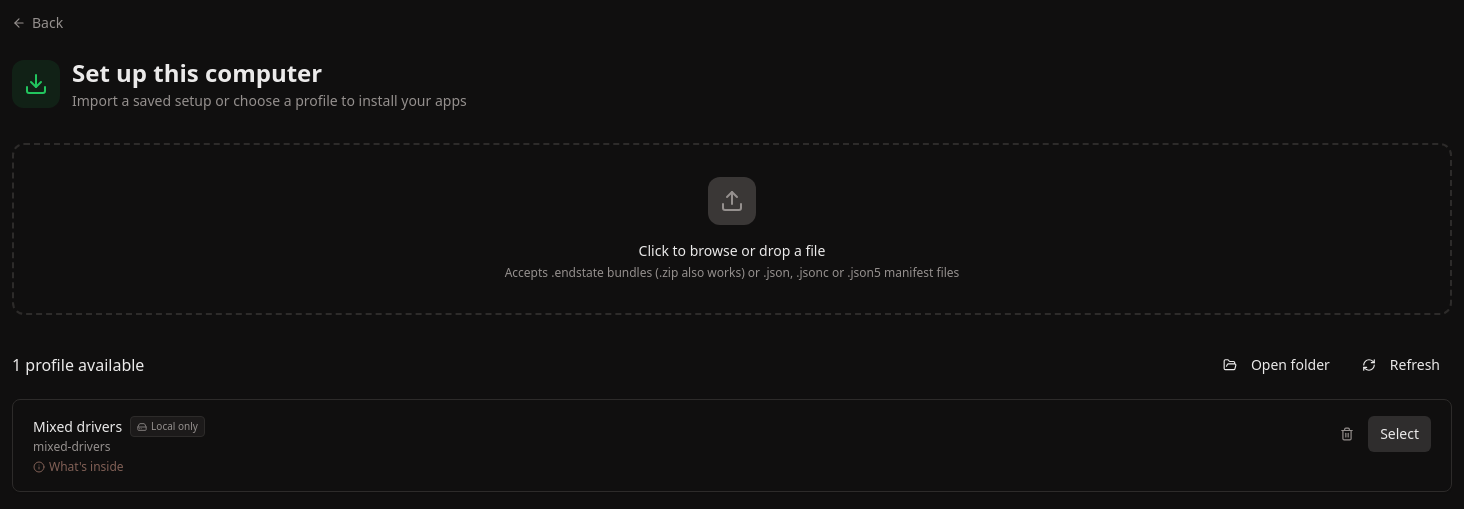
it: SetupFlow command warnings › does not change partial-failure status, counts, item copy, or controls
The image size is (1464, 509).
Click the button "Mixed drivers Local only mixed-drivers What's inside Select". click: click(78, 426)
box: [12,399,1452,492]
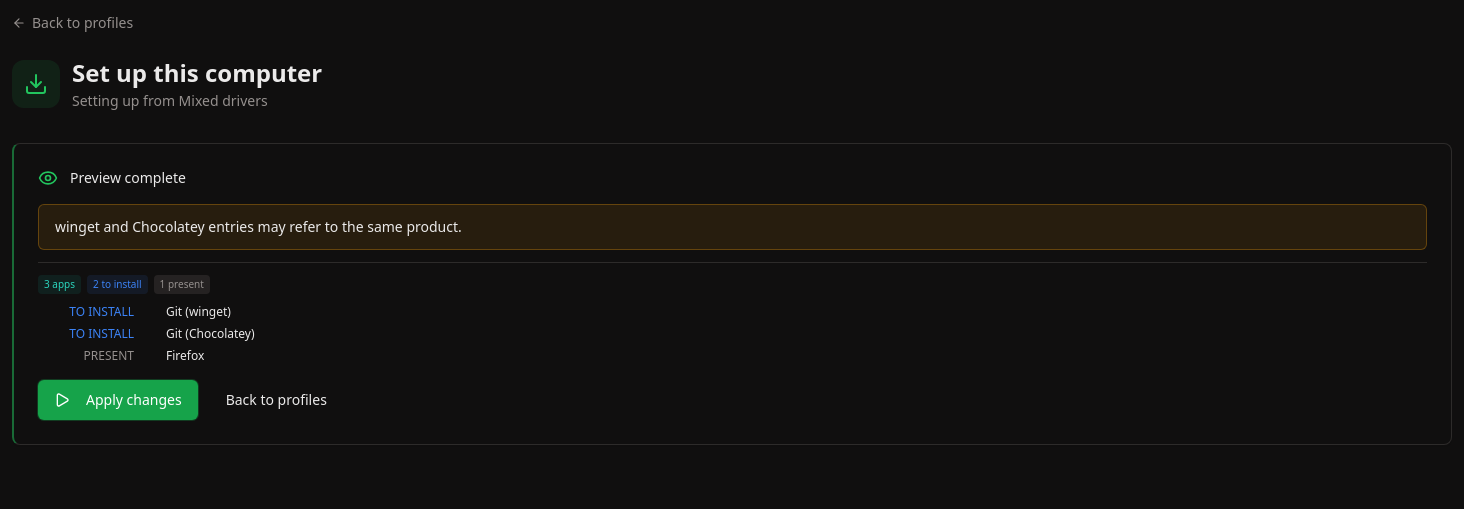
Expected: the button with test id "setup-flow-apply" is shown
Click the button with test id "setup-flow-apply". click: click(118, 400)
box: [38,380,198,420]
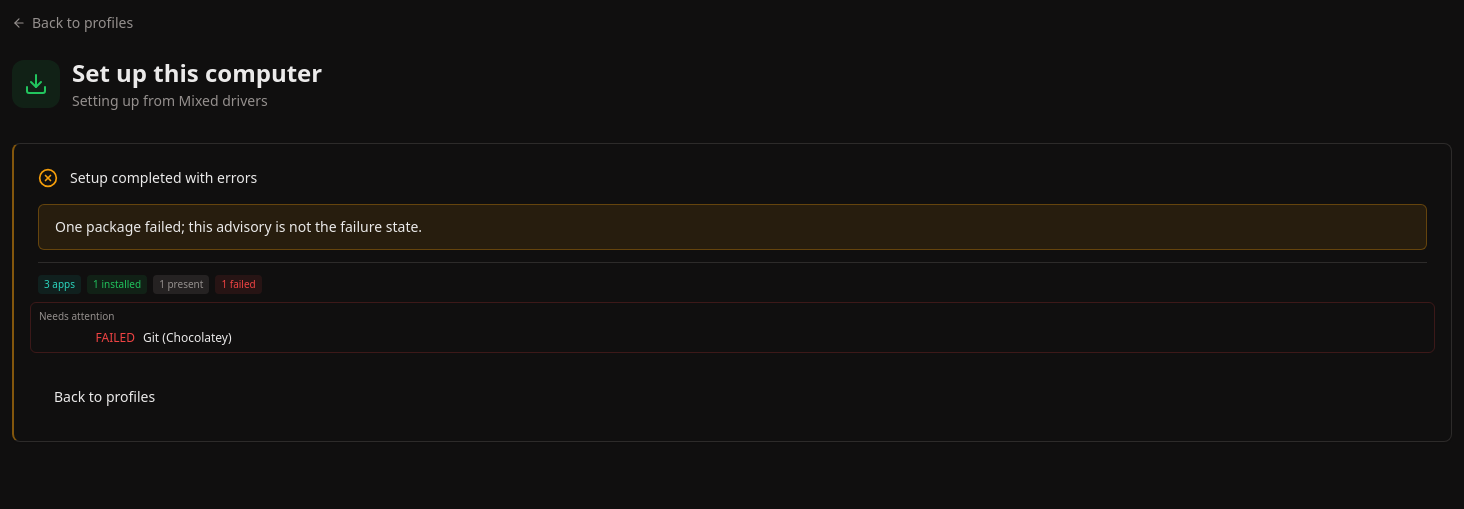
Expected: the button "1 present" is shown, [153,275,209,294]
Expected: the text "Setup completed with errors" is shown, [70,168,257,188]
Expected: the button "1 installed" is shown, [87,275,147,294]
